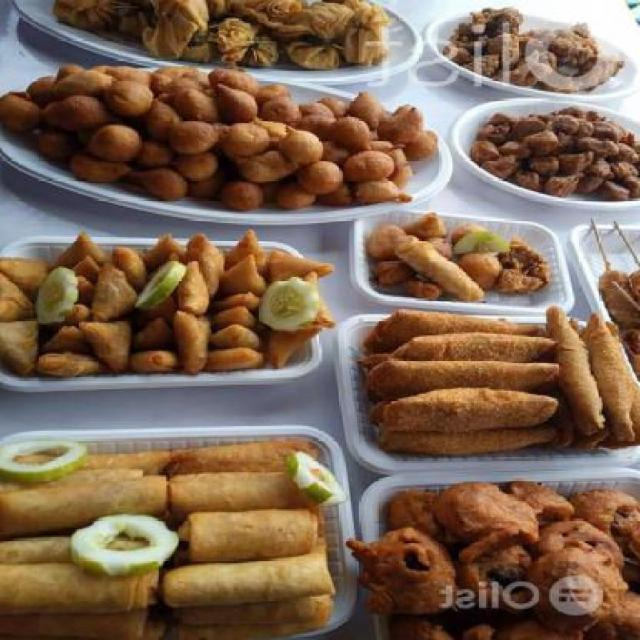samosa: (1, 228, 336, 384)
spring rolls: (1, 429, 344, 640), (392, 234, 485, 300)
